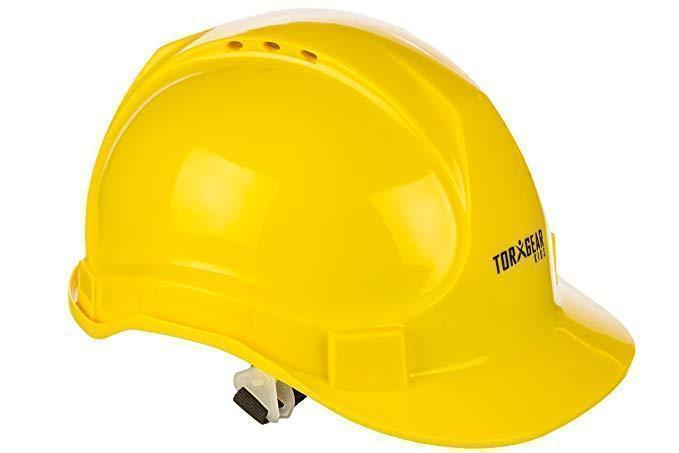helmet: (57, 7, 655, 452)
